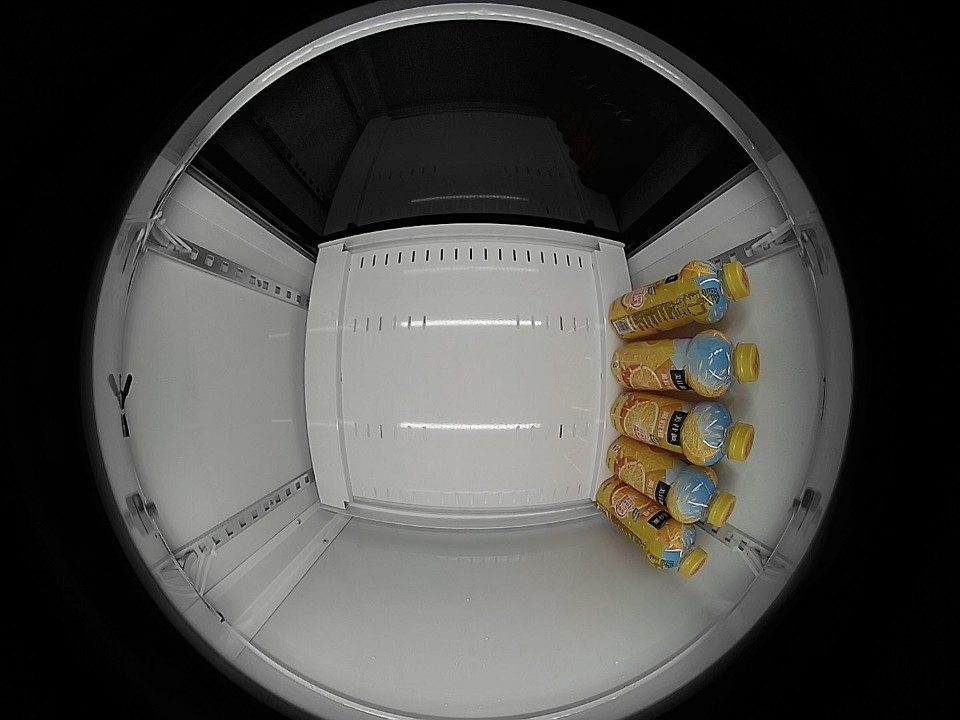guolicheng: (689, 328, 761, 398), (685, 400, 756, 466), (684, 258, 751, 325), (669, 466, 737, 528), (648, 521, 709, 578)
